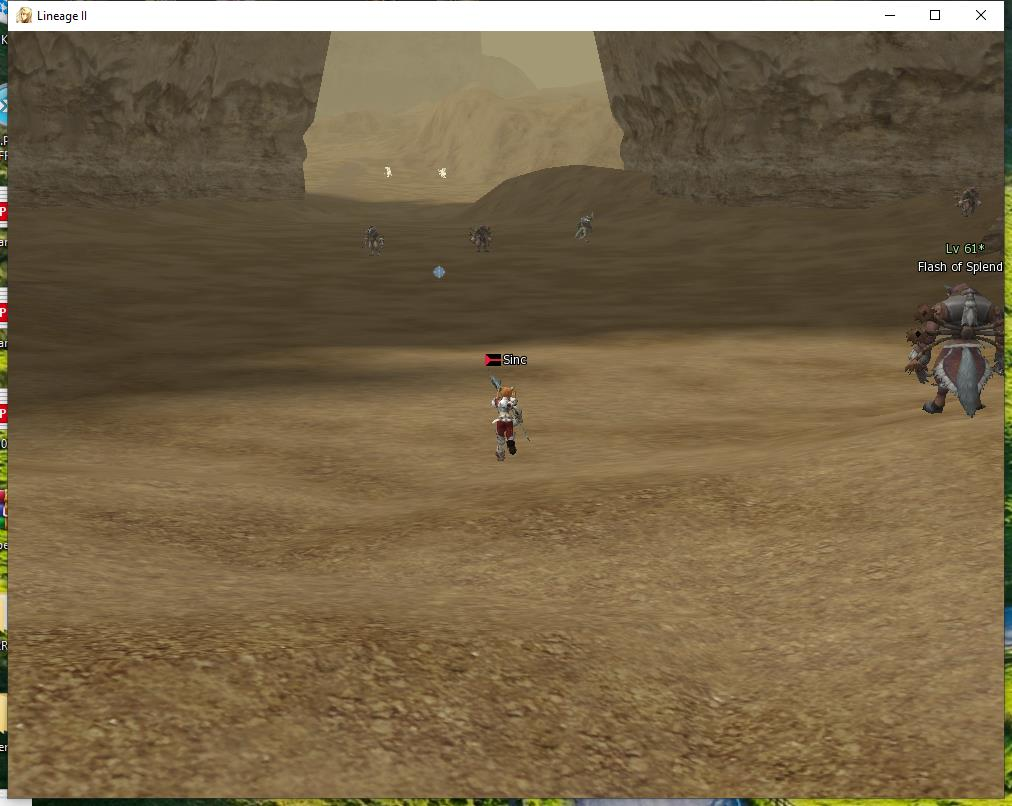monster: (901, 238, 1007, 413), (563, 211, 596, 249), (962, 181, 990, 218), (475, 220, 504, 254), (363, 221, 387, 255)
